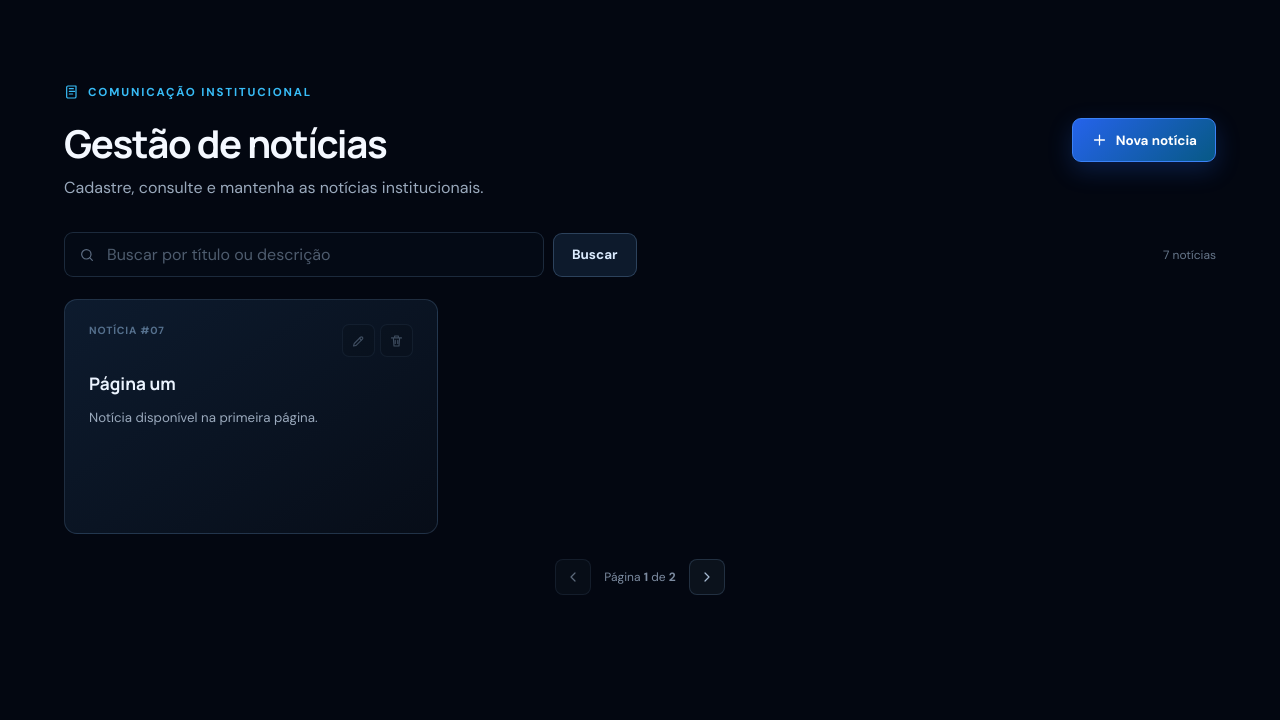
Test case: Feature: consistência da paginação de notícias › Dada uma confirmação de exclusão aberta, quando pressionar Escape, então cancela a ação
This screenshot has width=1280, height=720.
expect the heading "Página um" is shown: met, box [89,372,176,395]
Click the button named "Excluir Página um" at (396, 340), box [380,324,413,357]
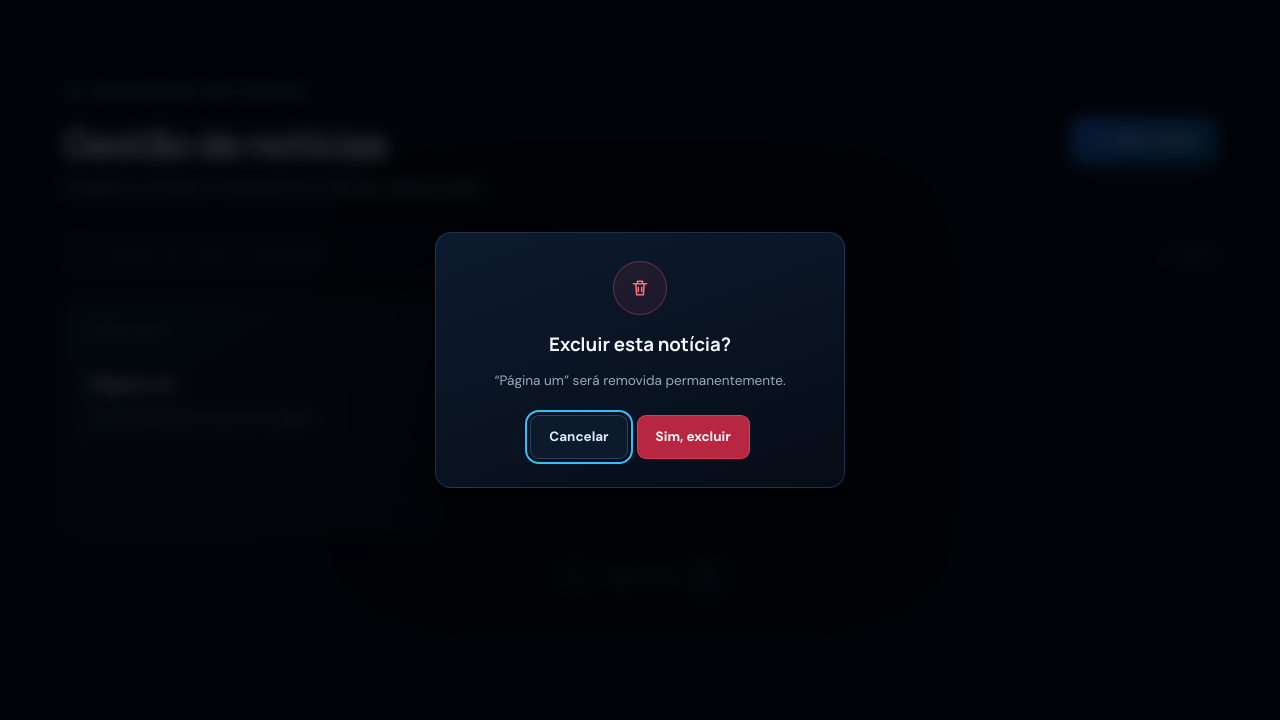
expect the dialog "Excluir esta notícia?" is shown: met, box [435,232,845,488]
Press Escape
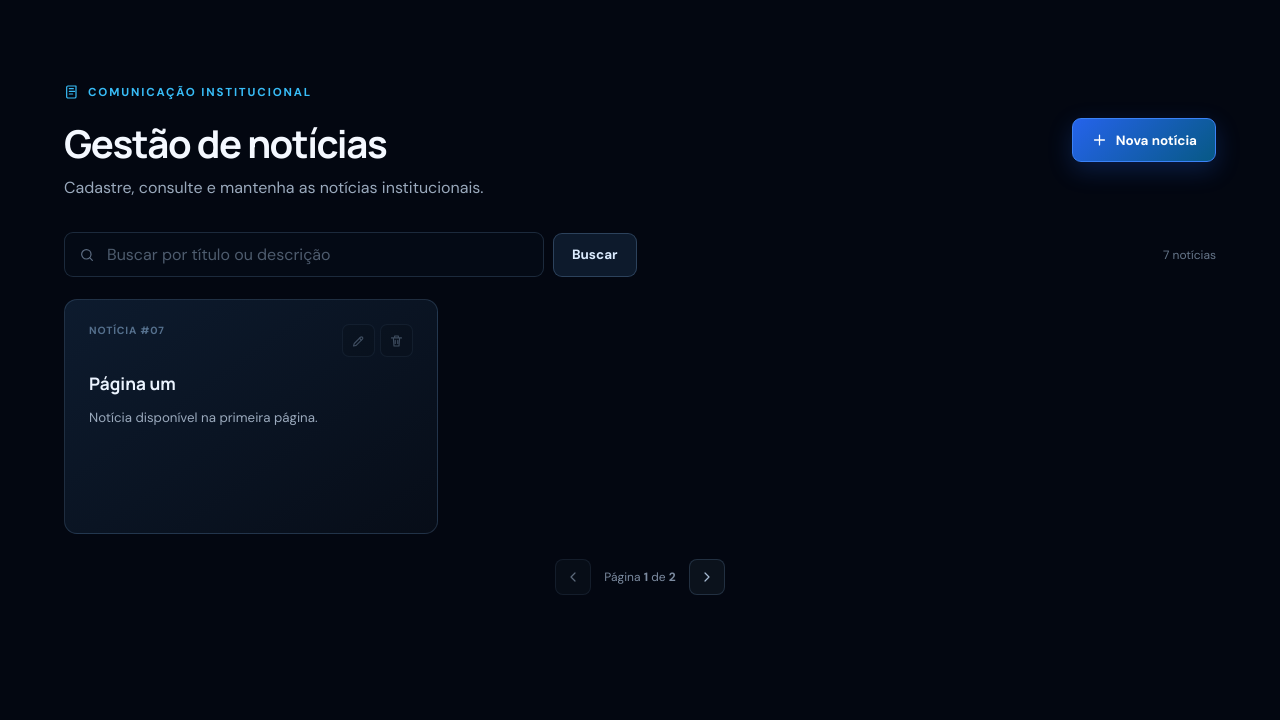
expect the heading "Excluir esta notícia?" is gone: met
